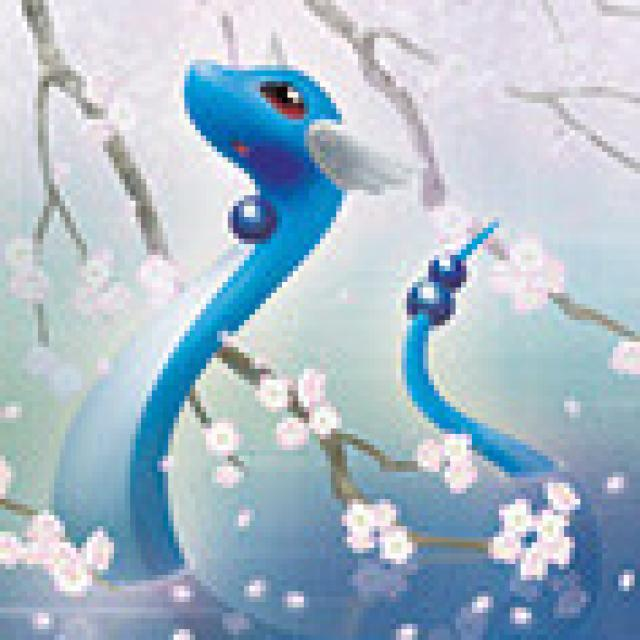Dragonair: (64, 55, 552, 572)
